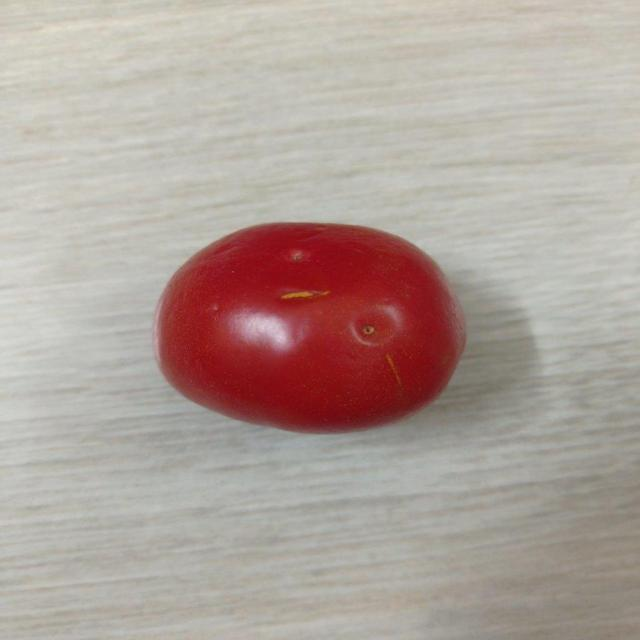Ripe: (153, 217, 474, 436)
